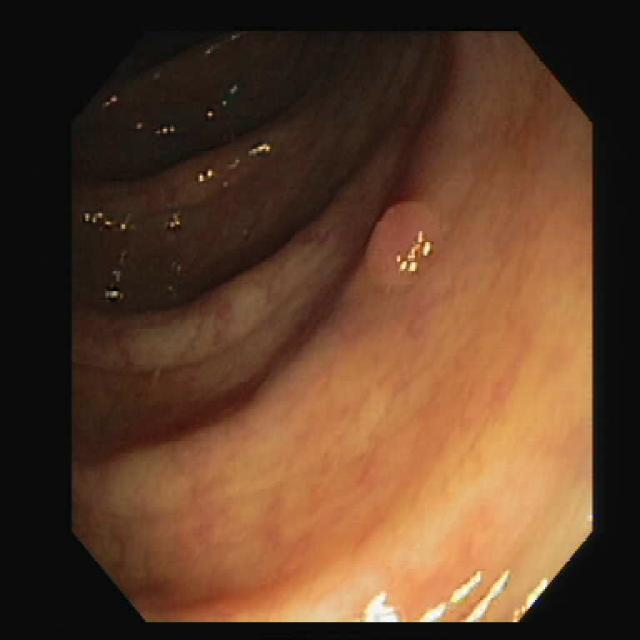tumor: (367, 200, 443, 282)
